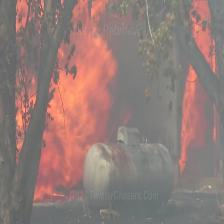fire: (0, 0, 224, 206)
